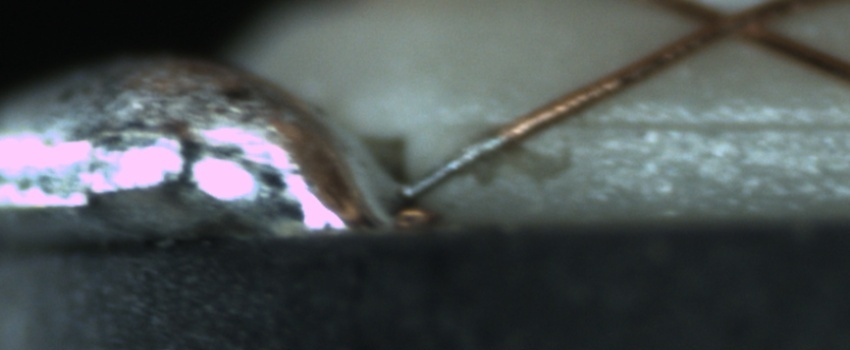CL: (673, 2, 787, 45)
DL: (475, 94, 850, 156)
TS: (407, 129, 507, 198)
